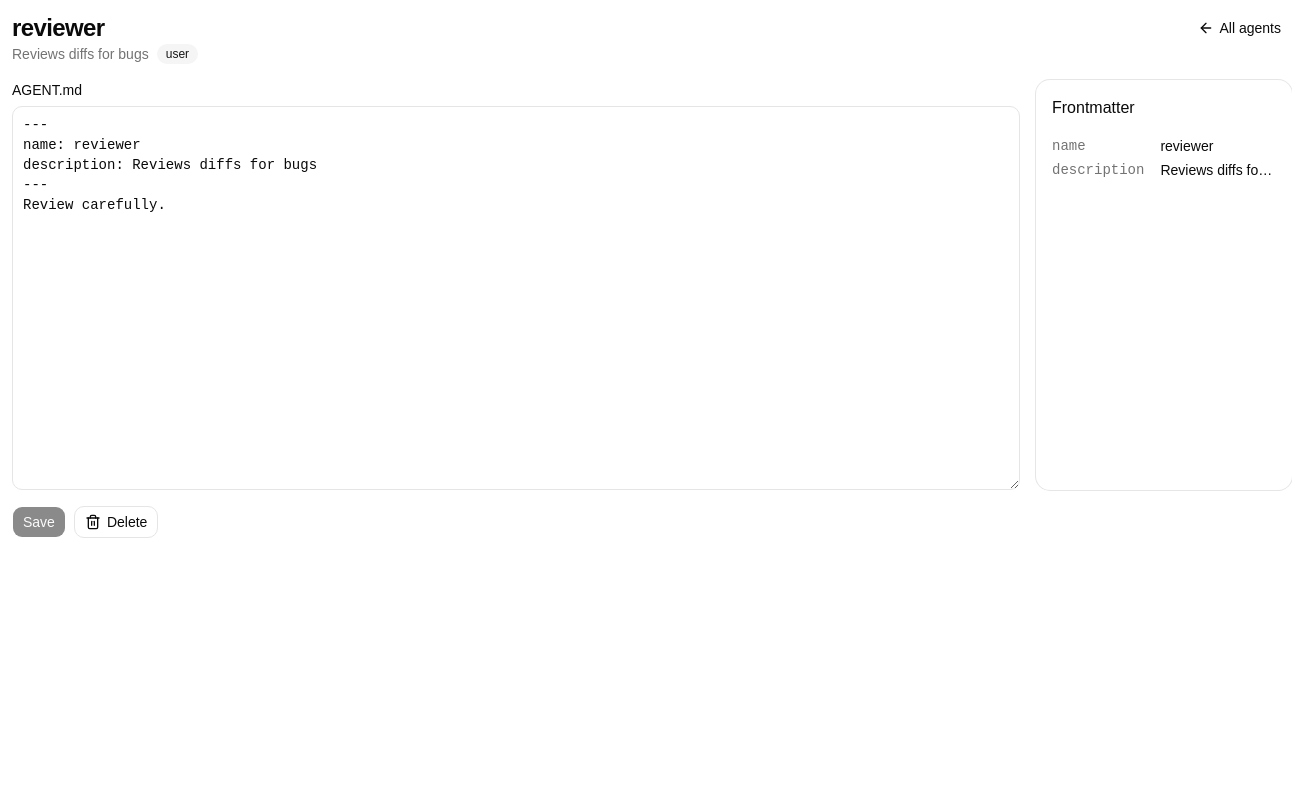
Test: AgentEditor › tells the user when the file changed on disk under a dirty draft, and can reload
Type " mine" into the text box labelled "AGENT.md".
click(516, 298); type(" mine")  # box [12,106,1020,490]
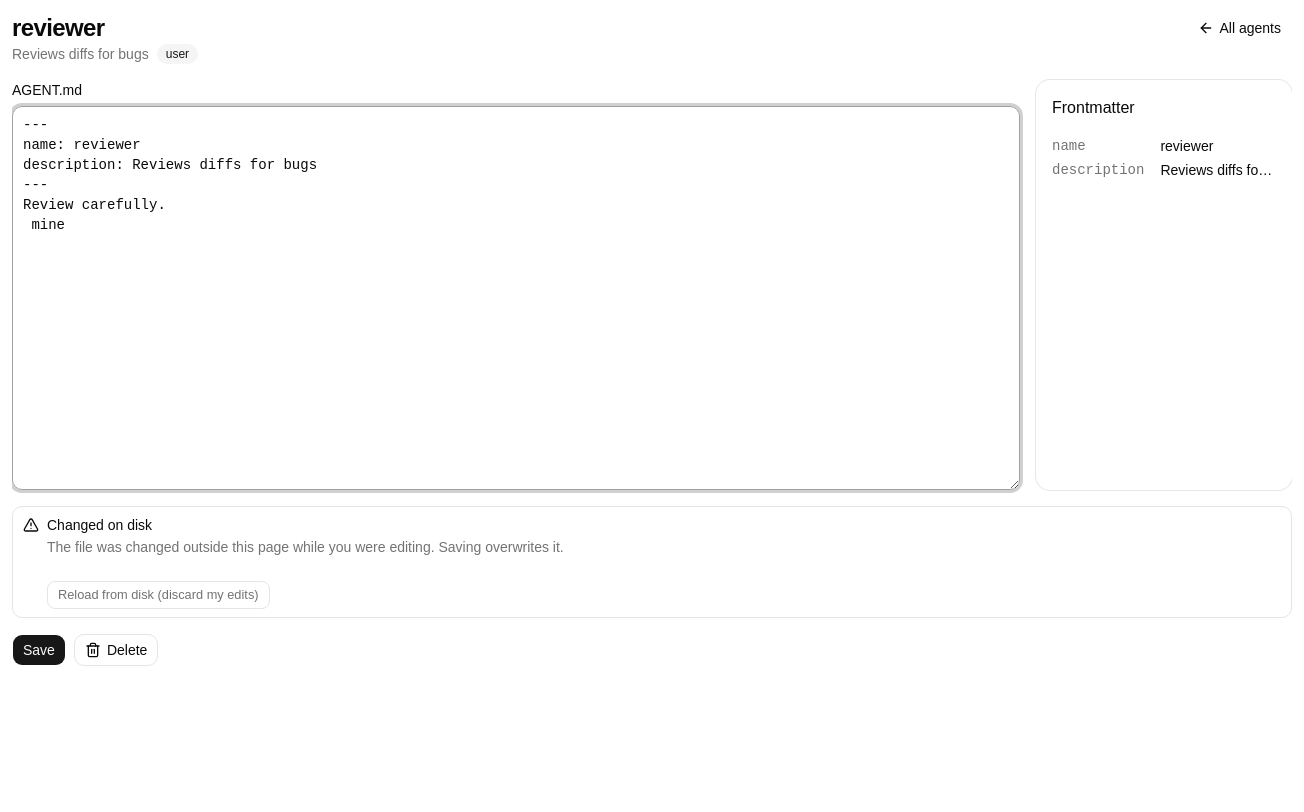
Check: the text "Changed on disk" is shown, box [47,517,152,533]
Click the button "Reload from disk (discard my edits)".
click(158, 595)  # box [47,581,270,609]
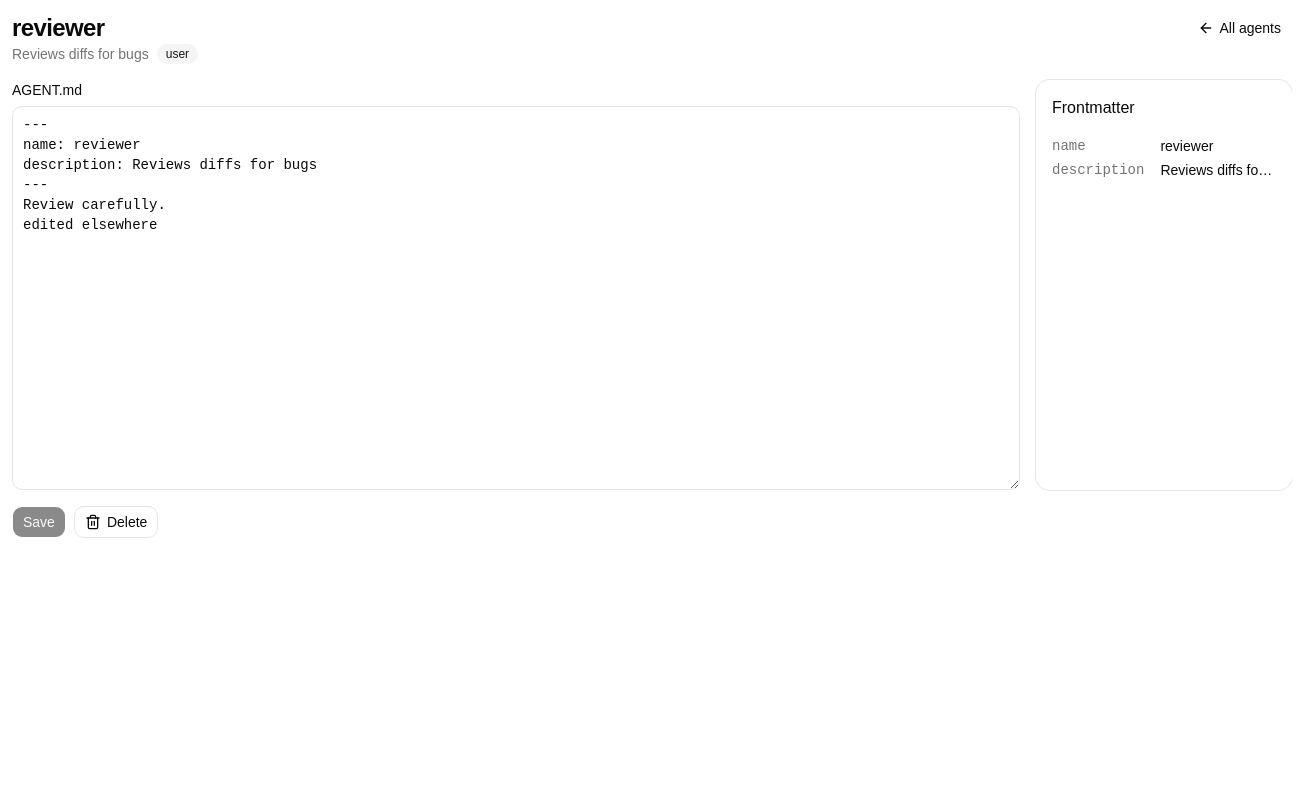
Check: the text "Changed on disk" is gone
